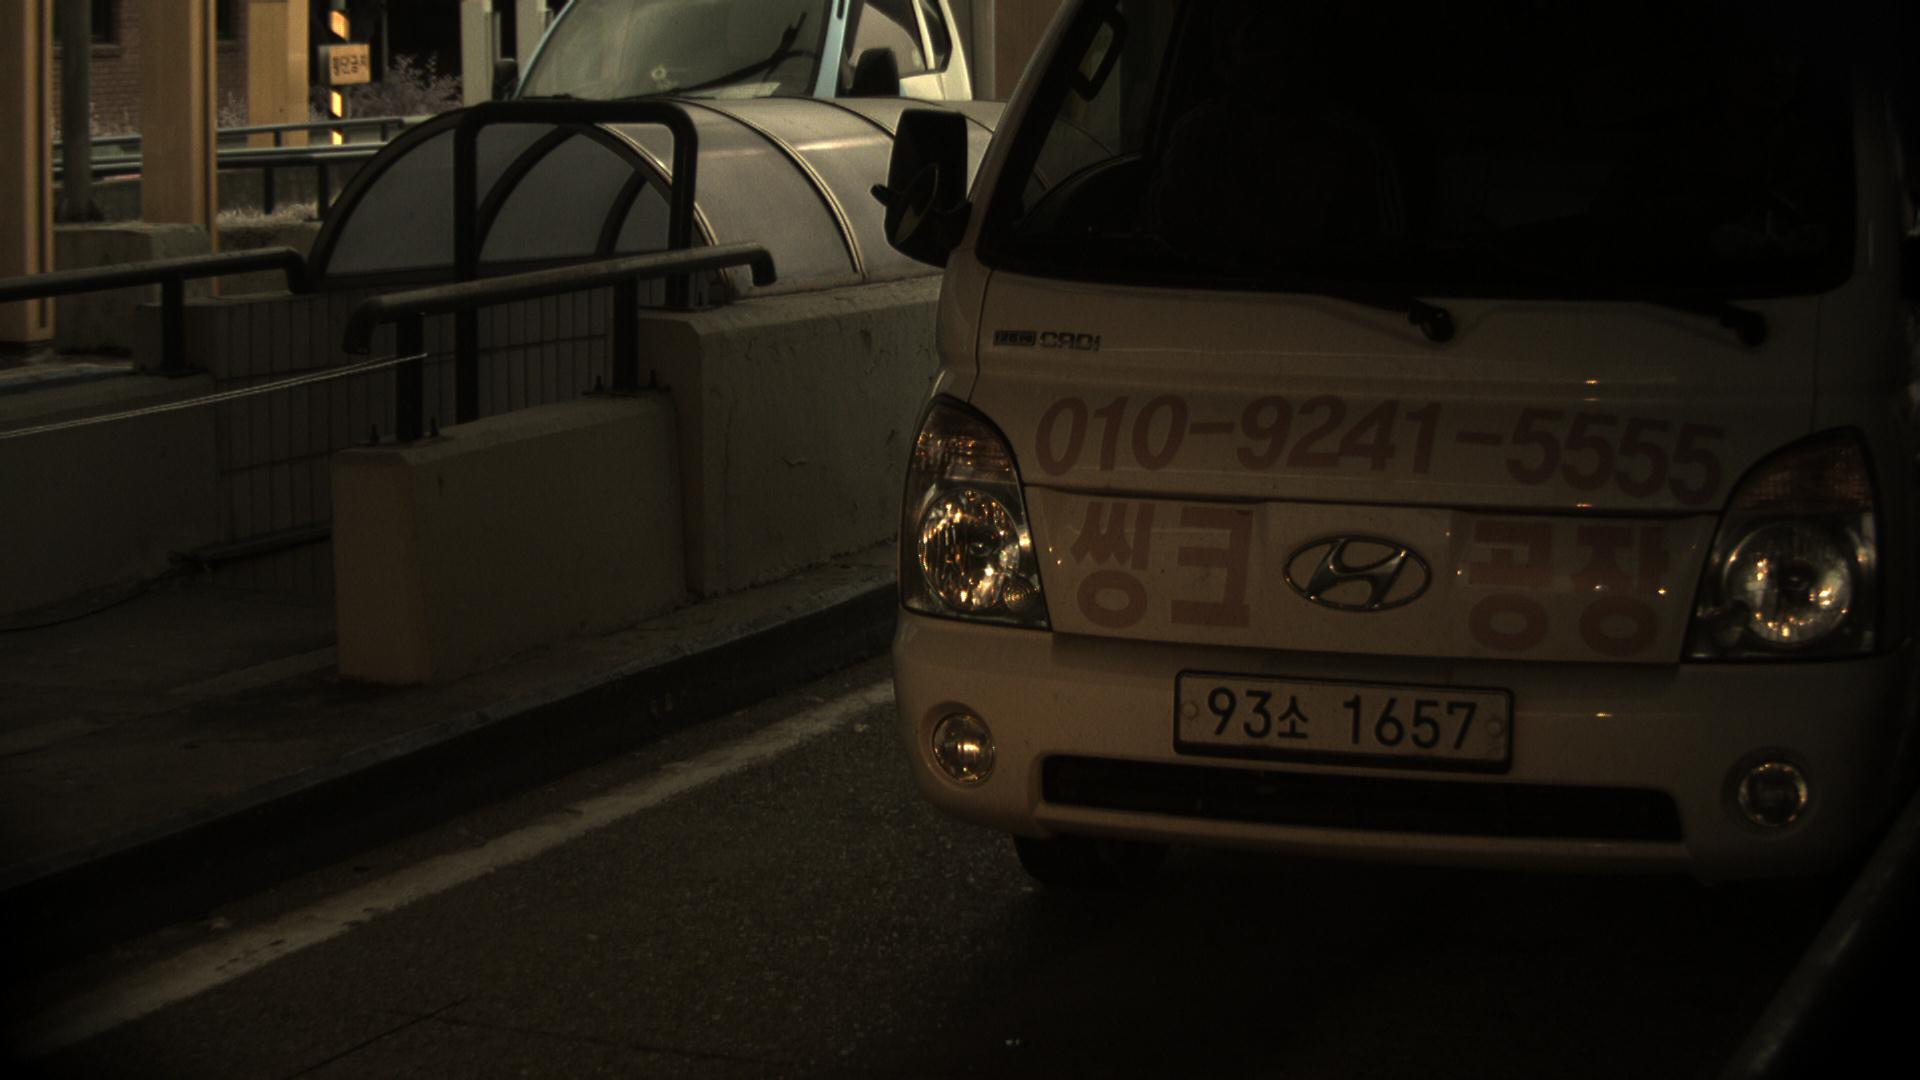car: (868, 1, 1920, 939)
plate: (1168, 665, 1517, 769)
